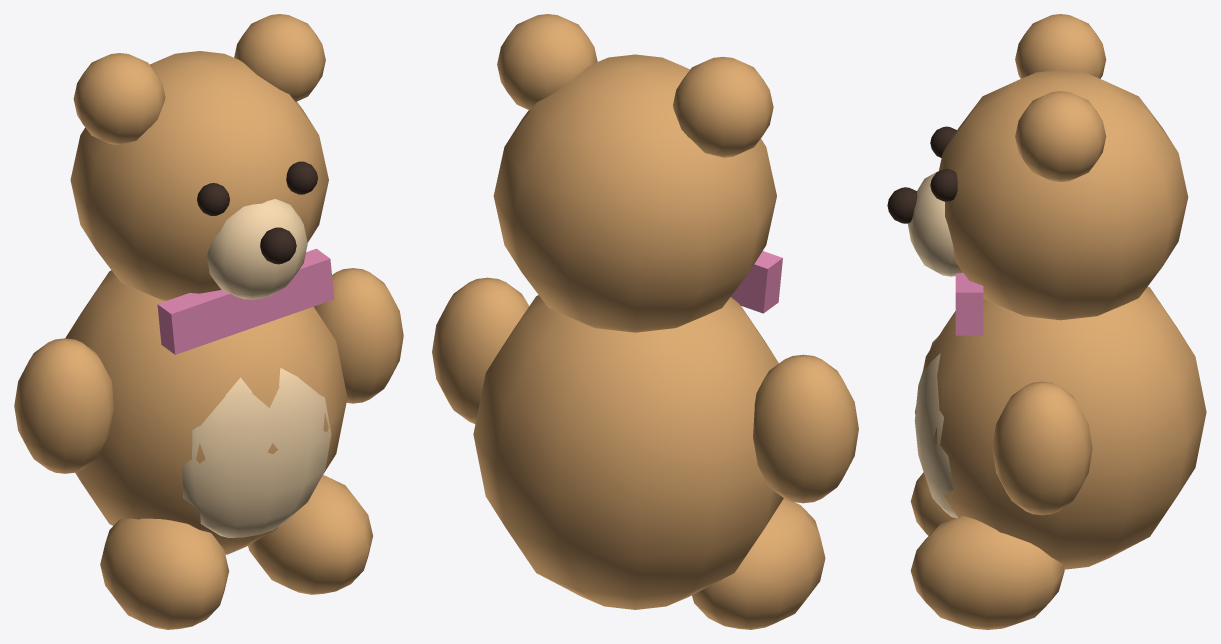
The model's file is soft_toy.glb.
3 renders of one model, left to right at view 1: azimuth 30°, elevation 25°; view 2: azimuth 150°, elevation 25°; view 3: azimuth 270°, elevation 25°, orthographic. The views are drawn at different scales.
Visible parts, largest first — view 1: root; view 2: root; view 3: root.
Boxes of the visible parts, bbox=[...] form: root: bbox=[14, 14, 403, 629]; root: bbox=[432, 14, 858, 629]; root: bbox=[887, 14, 1206, 629].
Bounding box in the file's own units: 0.47 × 0.645 × 0.35.
